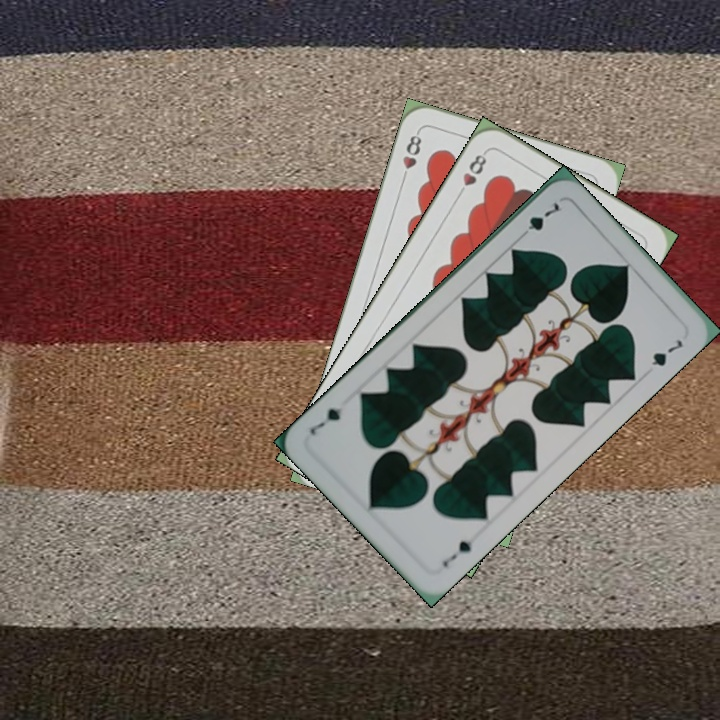G7: (515, 197, 562, 242), (438, 536, 475, 570)
H8: (453, 147, 490, 201), (397, 127, 425, 185)
